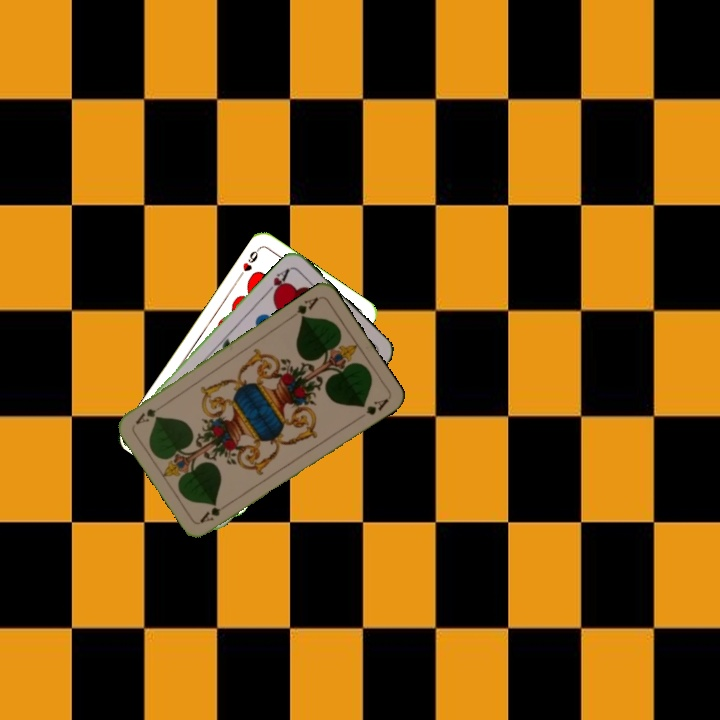GA: (196, 498, 232, 526), (287, 293, 321, 322)
H9: (235, 244, 262, 280)
HA: (261, 264, 293, 300)
